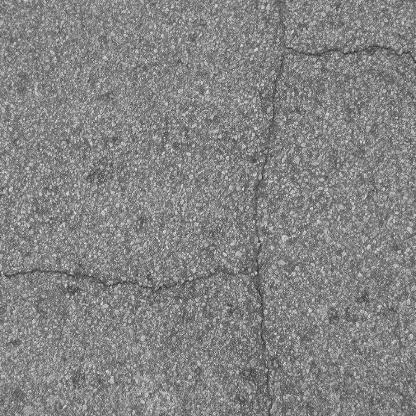Cracks: (248, 6, 292, 416), (0, 262, 253, 291), (292, 37, 416, 85)
